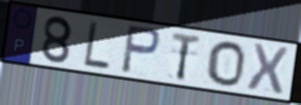8: (40, 15, 73, 64)
L: (82, 19, 111, 72)
O: (206, 40, 247, 88)
P: (118, 24, 162, 76)
T: (170, 30, 203, 82)
X: (245, 41, 291, 96)
